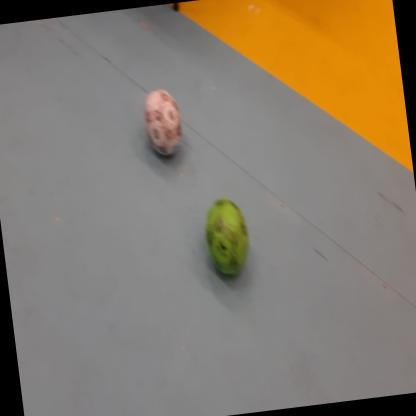ball: (201, 197, 252, 280), (142, 86, 186, 161)
